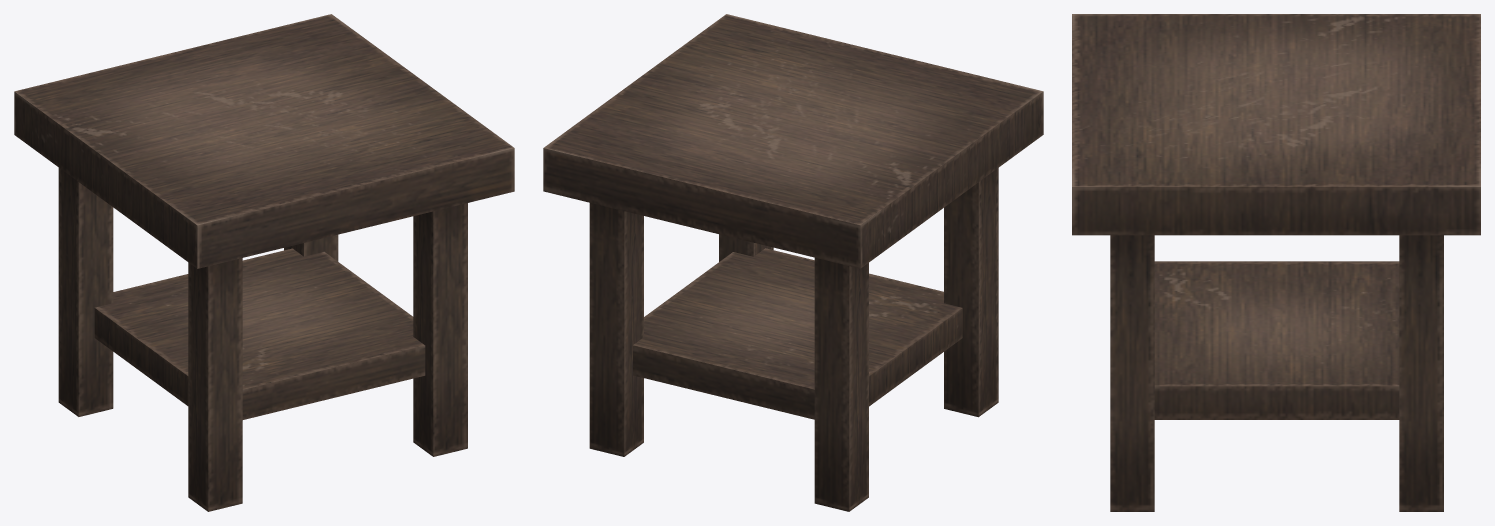
The model's file is Coffee.Table_2.fbx.
3 renders of one model, left to right at view 1: azimuth 30°, elevation 25°; view 2: azimuth 150°, elevation 25°; view 3: azimuth 270°, elevation 25°, orthographic. The views are drawn at different scales.
Visible parts, largest first — view 1: Coffee.Table_2; view 2: Coffee.Table_2; view 3: Coffee.Table_2.
Part boxes in pixels (box(x1,y1,x2,y2)): Coffee.Table_2: box(14, 14, 514, 511); Coffee.Table_2: box(543, 14, 1043, 511); Coffee.Table_2: box(1072, 14, 1480, 511).
Size of the model in its own units: 62.17 by 57.25 by 62.17.
